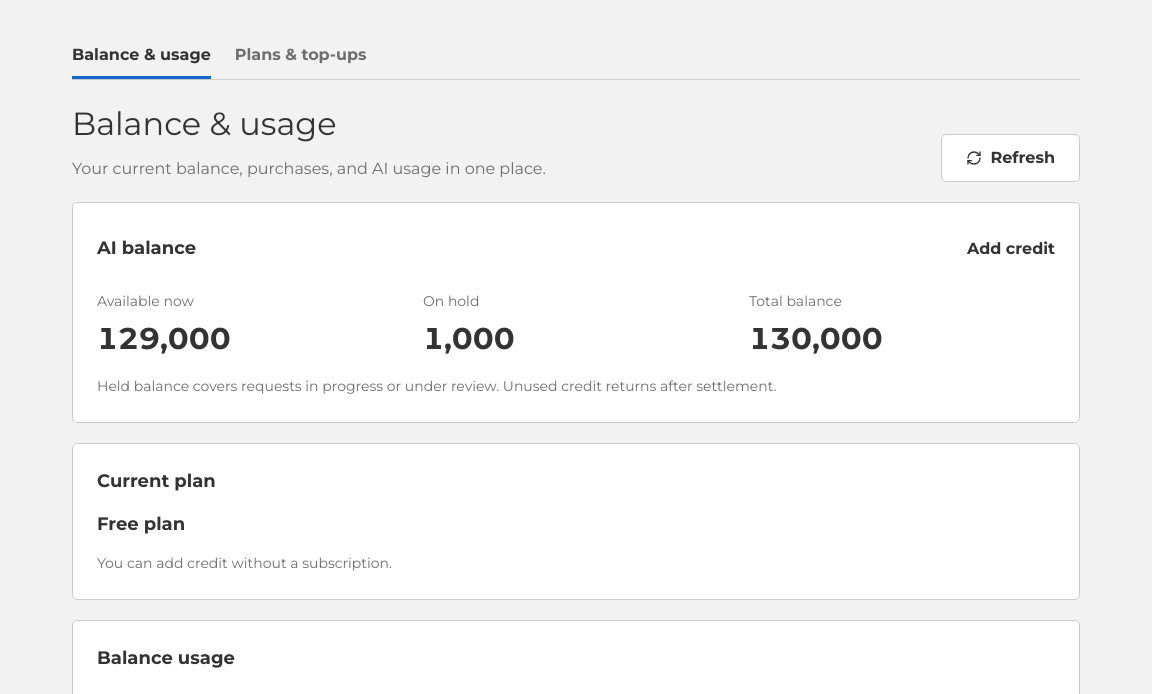
Test: keeps the dashboard useful when purchase history fails, and allows retry
Expected: the text "129,000" is shown, left=97, top=320, right=231, bottom=357
Click the button "Refresh".
click(1011, 158)  # box left=942, top=134, right=1080, bottom=182
(page scrolled)
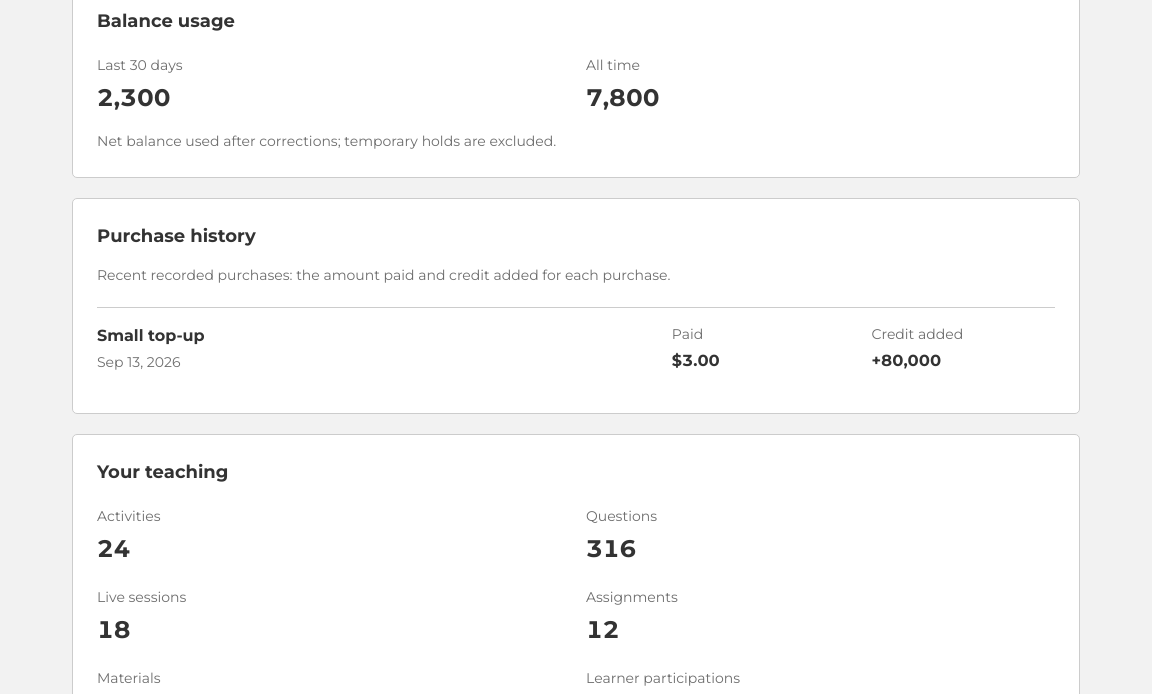
Expected: the text "$3.00" is shown, left=672, top=351, right=720, bottom=370
